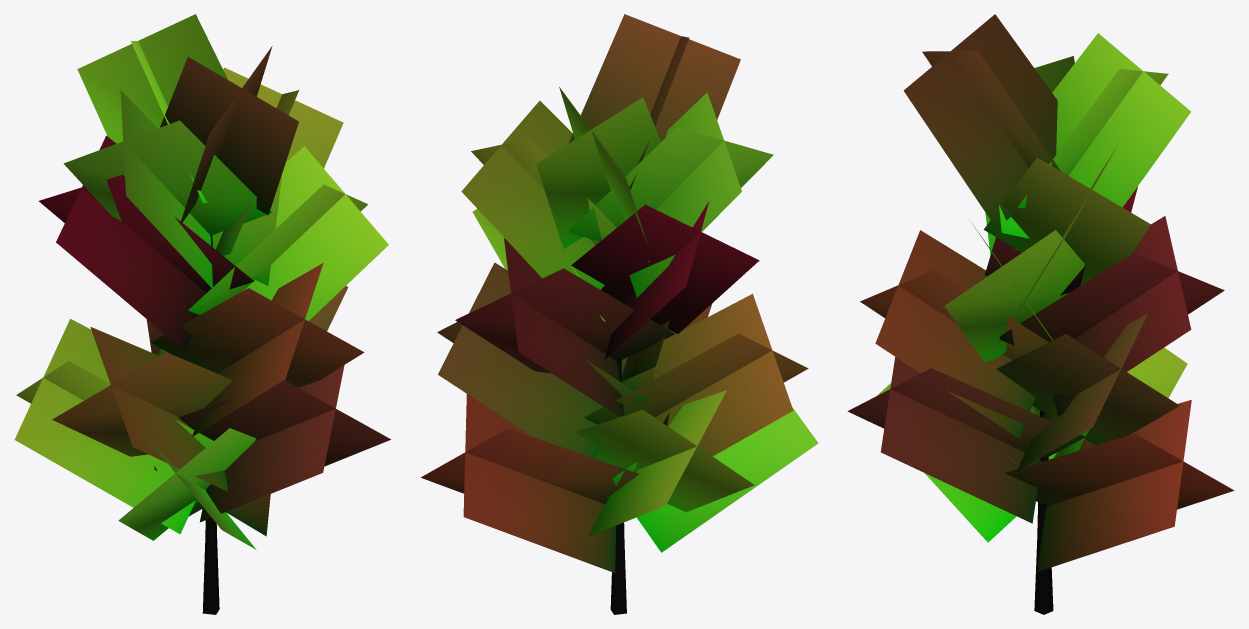
The model's file is SuperTree_1.fbx.
The picture shows the model from 3 angles, left to right: view 1: azimuth 30°, elevation 25°; view 2: azimuth 150°, elevation 25°; view 3: azimuth 270°, elevation 25°; orthographic projection. The views are drawn at different scales.
Parts seen in each view (by area): view 1: SuperTree_1; view 2: SuperTree_1; view 3: SuperTree_1.
Boxes of the visible parts, x1,y1,x2,y2 form: SuperTree_1: (14,14,390,614); SuperTree_1: (421,14,818,614); SuperTree_1: (847,14,1234,614).
Bounding box in the file's own units: 494 × 831 × 509.
